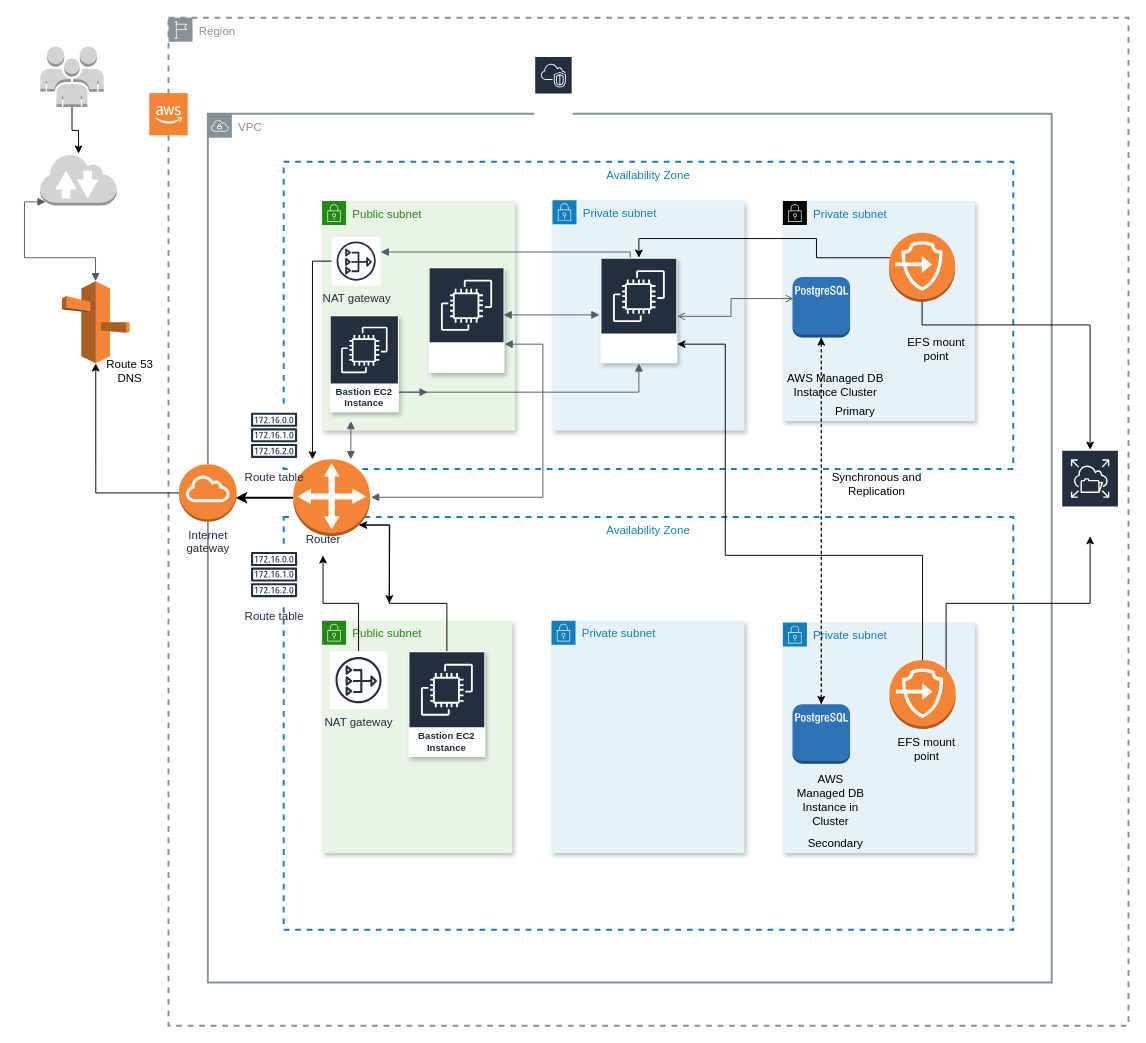
Some shapes in this 1146 by 1043 pixel diagram are drawn without their labels. The shapes that lost their labels are listed below. From the top down, each one's centre as x and y in pixels, then its label:
point 553,89: Amazon VPC
point 78,179: internet
point 467,321: Nginx Reverse Proxy Instance
point 639,311: Sonar EC2 instacne
point 1089,492: Amazon Elastic File System
